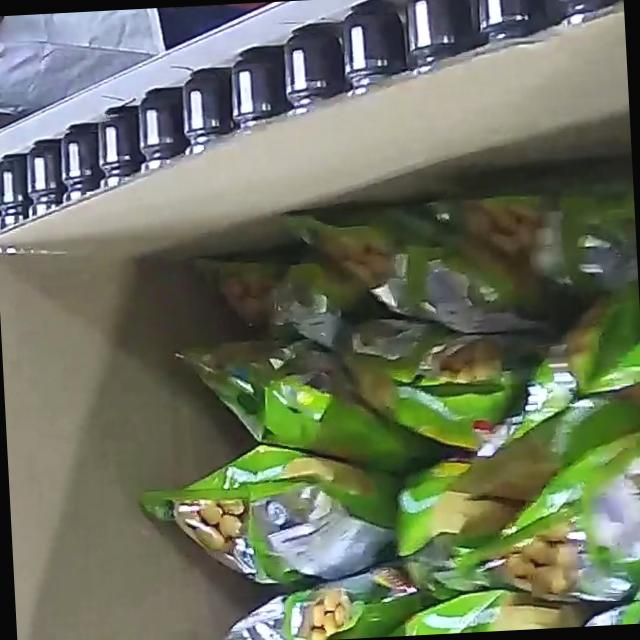yogurt: (119, 178, 640, 640)
